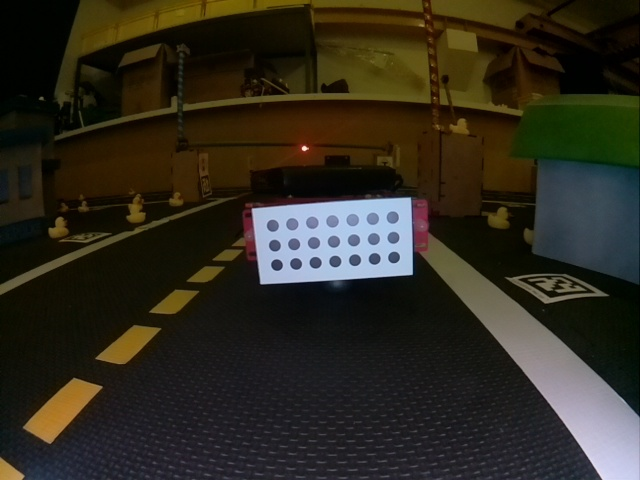Duckie: (489, 207, 508, 229), (49, 219, 69, 235), (451, 119, 469, 133), (169, 193, 182, 206)
Duckiebot: (245, 167, 428, 276)
QR code: (509, 273, 600, 303), (61, 233, 110, 242), (200, 179, 211, 198)
Signal sign: (199, 155, 208, 174)
Traffic light: (300, 145, 309, 151)
